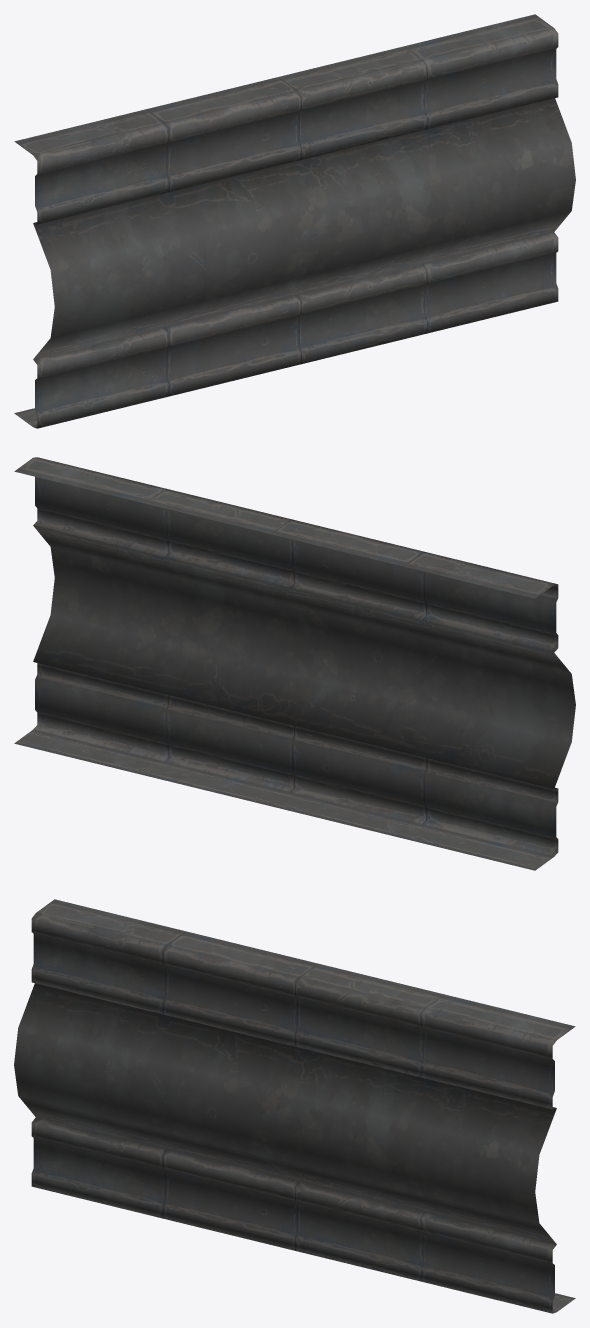
Rendered from trim01.fbx.
3 renders of one model, top to bottom at view 1: azimuth 30°, elevation 25°; view 2: azimuth 150°, elevation 25°; view 3: azimuth 330°, elevation 25°, orthographic.
Visible parts, largest first — view 1: Object081; view 2: Object081; view 3: Object081.
Part boxes in pixels (left/top/right/bottom): Object081: left=14, top=14, right=575, bottom=428; Object081: left=14, top=457, right=575, bottom=870; Object081: left=14, top=899, right=575, bottom=1313.
Bounding box in the file's own units: 300 × 150 × 40.65.
